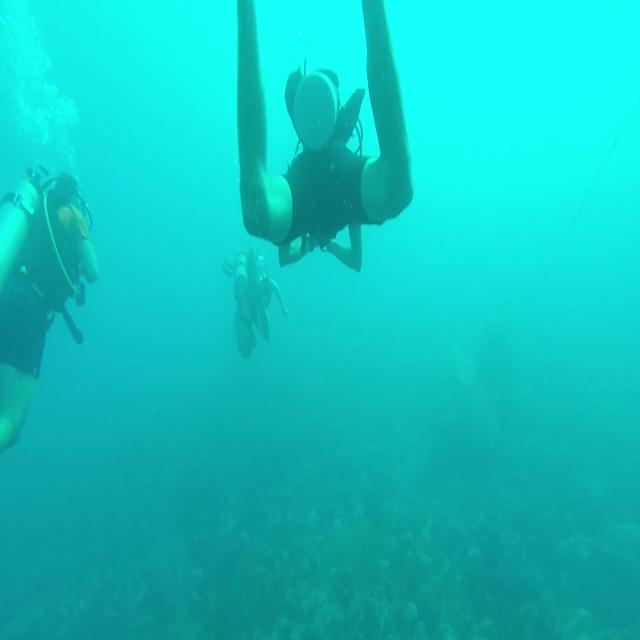human: (235, 0, 414, 273), (0, 162, 98, 454), (221, 242, 288, 359)
